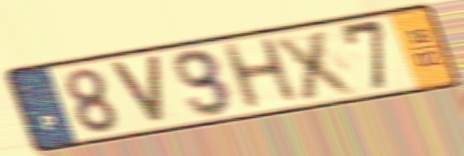7: (335, 17, 393, 96)
8: (60, 65, 123, 136)
9: (169, 46, 238, 118)
H: (216, 34, 303, 114)
V: (105, 54, 168, 126)
X: (269, 26, 364, 104)
